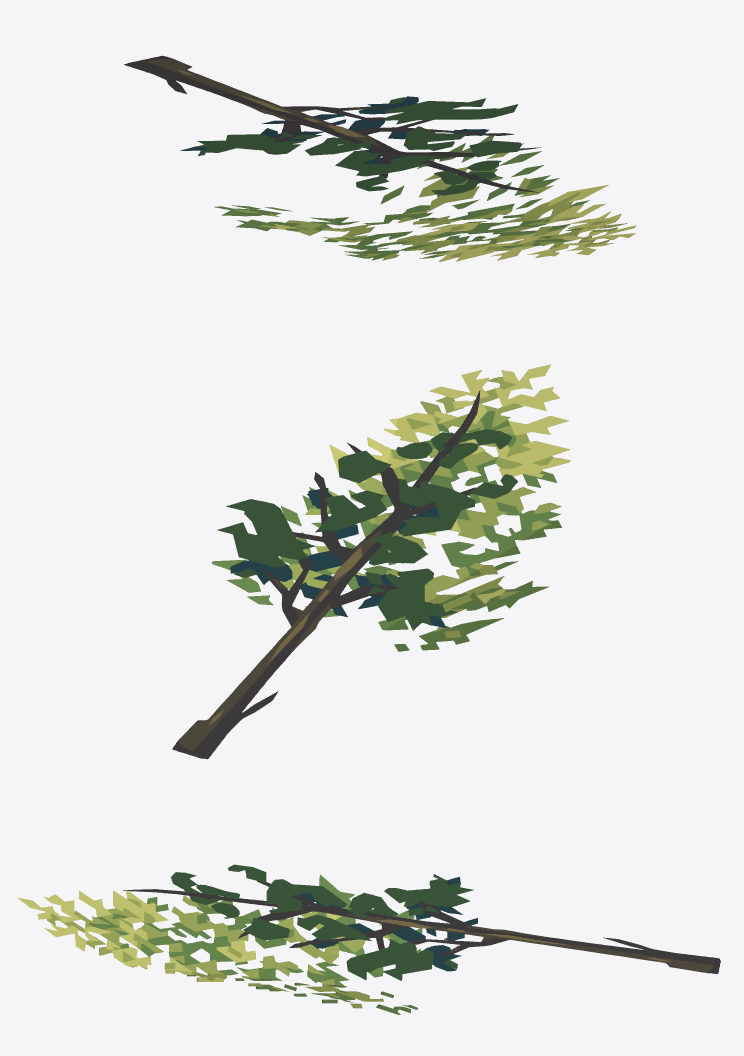
File: tree.glb
3 views of the same model, one above another, from view 1: azimuth 30°, elevation 25°; view 2: azimuth 150°, elevation 25°; view 3: azimuth 270°, elevation 25° (orthographic). The views are drawn at different scales.
Parts seen in each view (by area): view 1: base, 3dtop; view 2: base, 3dtop; view 3: base, 3dtop.
Boxes of the visible parts, x1,y1,x2,y2 form: base: [124, 55, 541, 195]; 3dtop: [214, 135, 636, 261]; base: [172, 390, 517, 759]; 3dtop: [211, 364, 570, 651]; base: [123, 864, 720, 980]; 3dtop: [18, 874, 422, 1014].
Bounding box in the file's own units: 2.18 × 0.895 × 4.85.
Materials: 2 (2 with a texture image).
